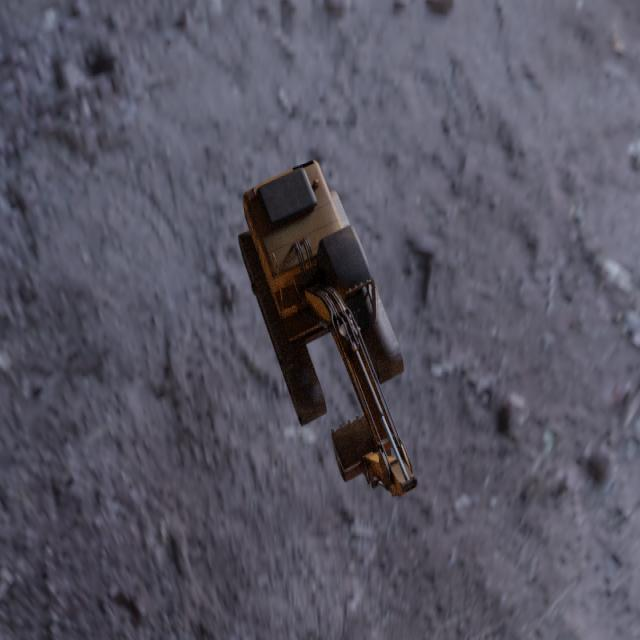excavator: (237, 159, 418, 497)
